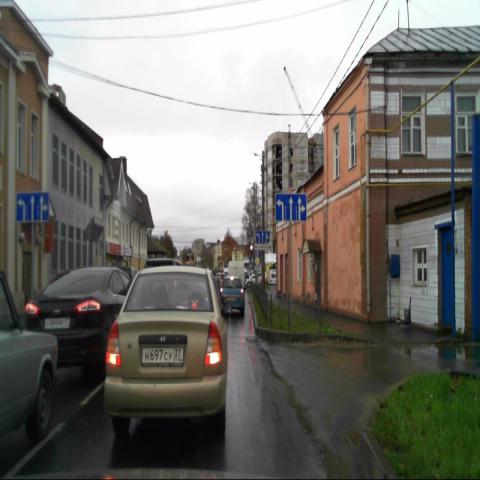5_15_1: (16, 192, 49, 222)
